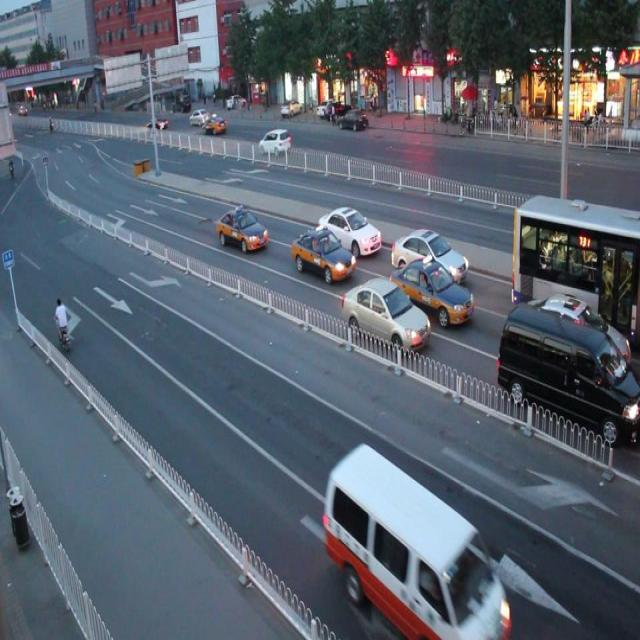car: (513, 292, 628, 388), (342, 277, 429, 350), (388, 260, 474, 330), (390, 228, 467, 283), (291, 225, 354, 282), (316, 204, 381, 254), (215, 204, 268, 250), (258, 128, 292, 153)
truck: (324, 443, 508, 640), (496, 300, 640, 446)
van: (510, 193, 640, 350)
